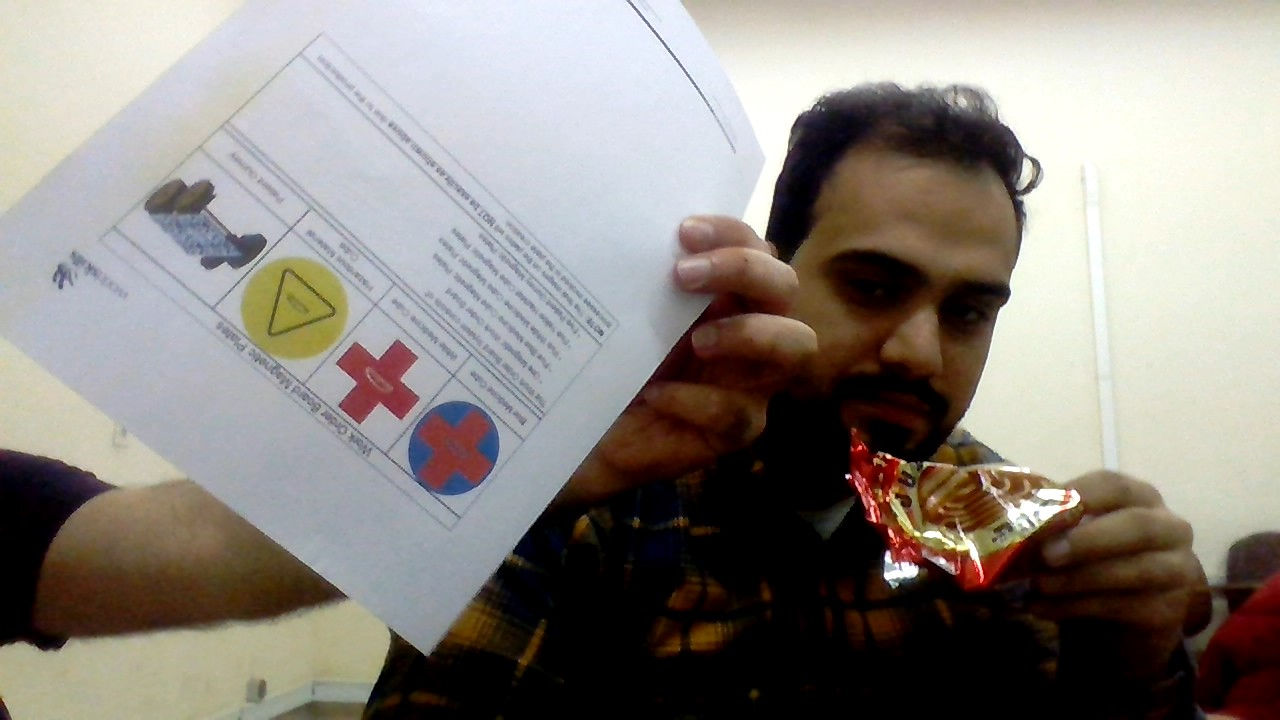bmc: (408, 401, 500, 502)
hmc: (239, 255, 351, 361)
pg: (146, 175, 268, 270)
wmc: (332, 330, 424, 429)
